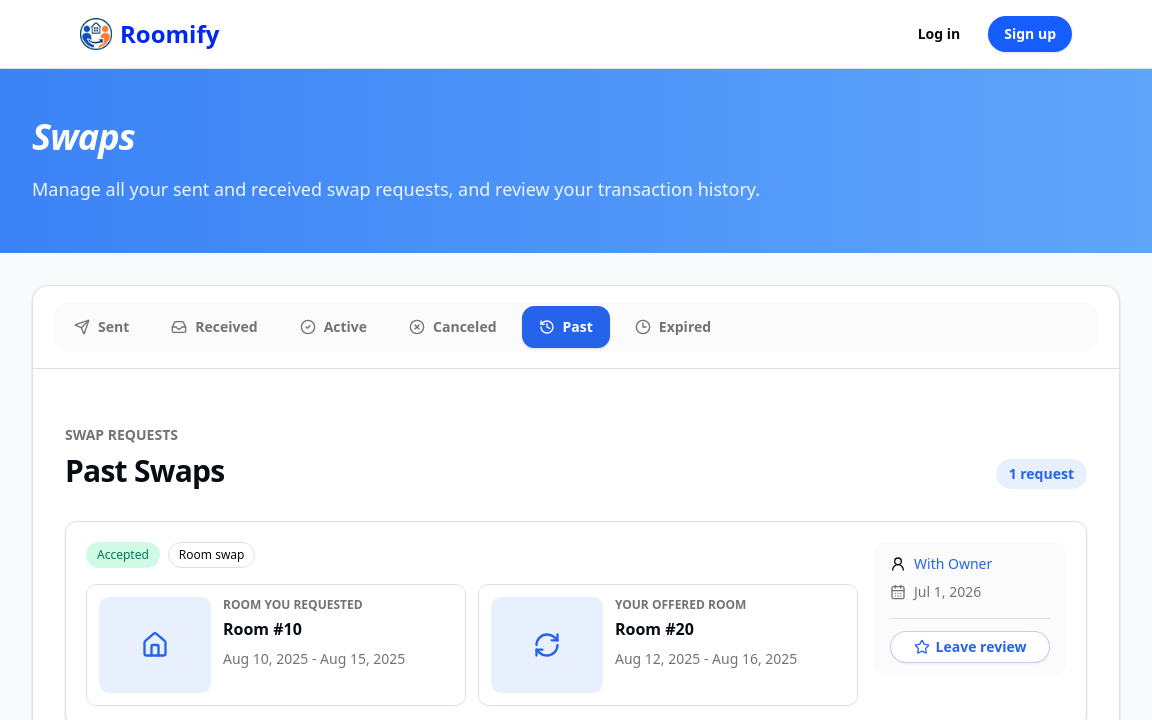
Test case: SwapsPage review flow › validates review rating before submitting
Click the button "Leave review" at (970, 647), box [890,631,1050,663]
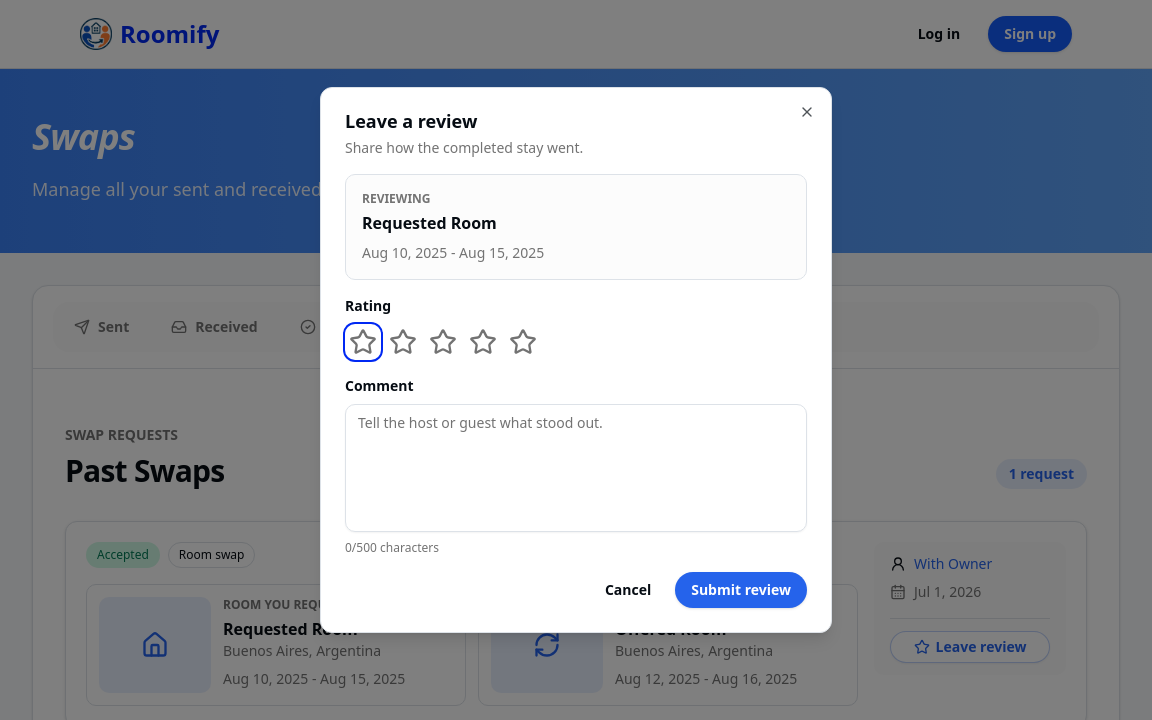
Type "Very good experience." into the text box labelled "Comment" at (576, 468), box [345,404,807,532]
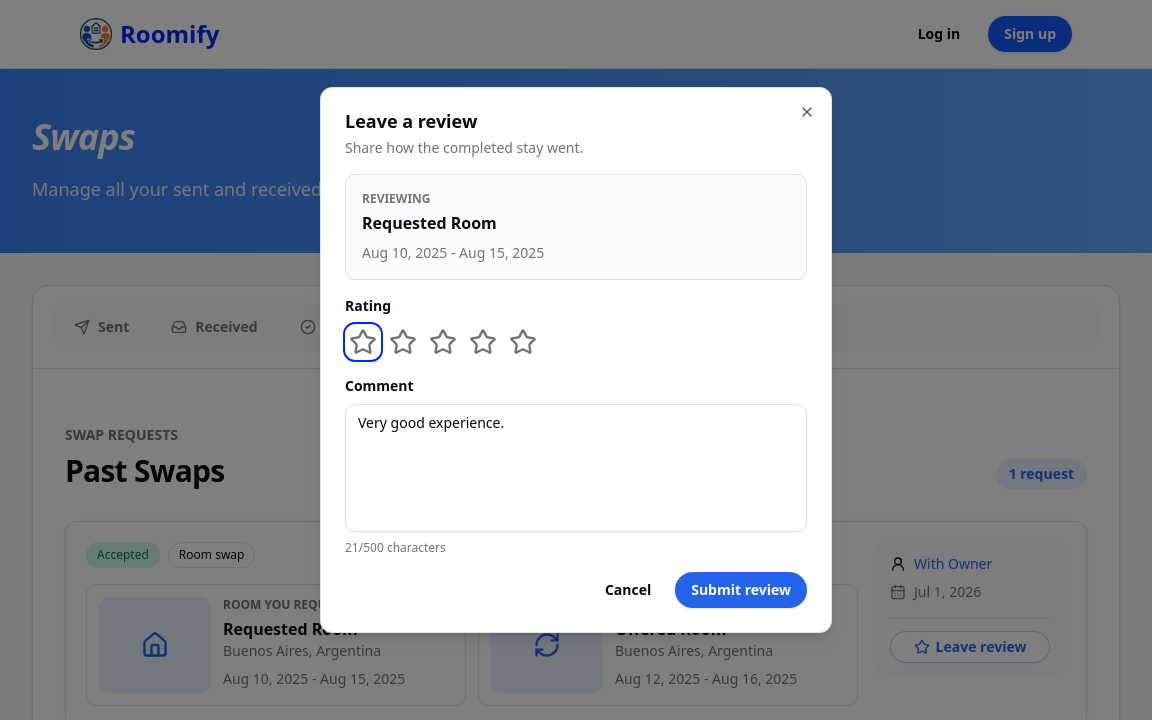
Click the button "Submit review" at (741, 590), box [675,572,807,608]
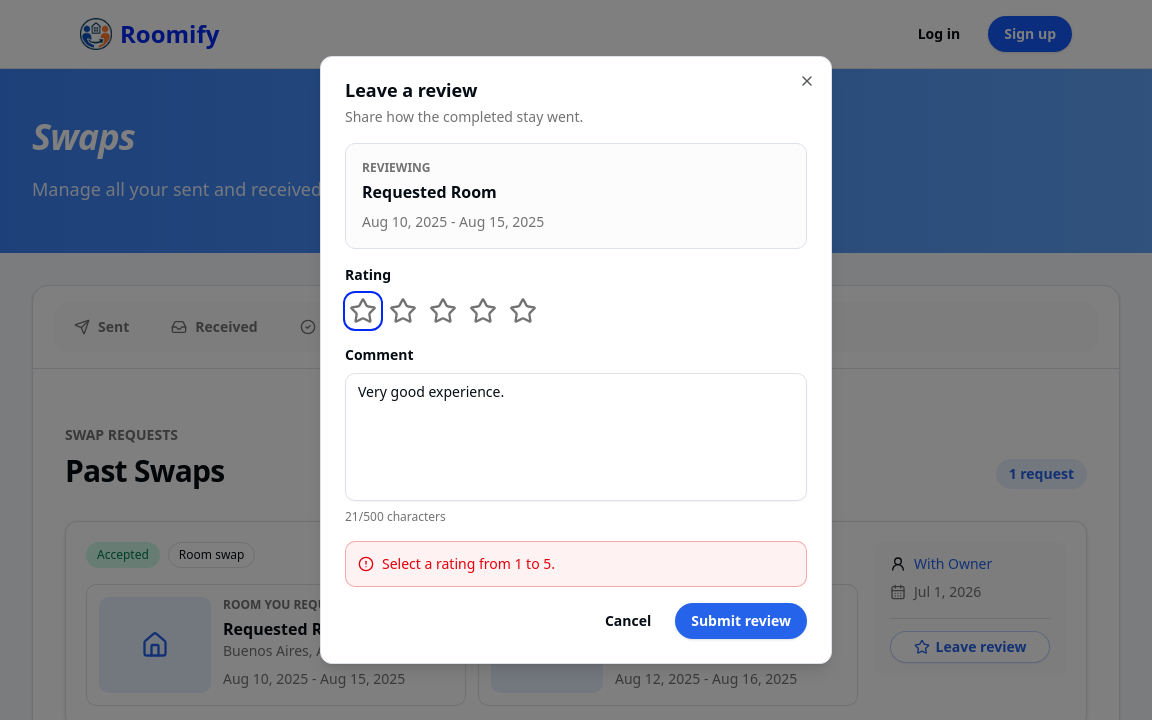
Now the text "Select a rating from 1 to 5." is shown, box [382,554,555,574]
